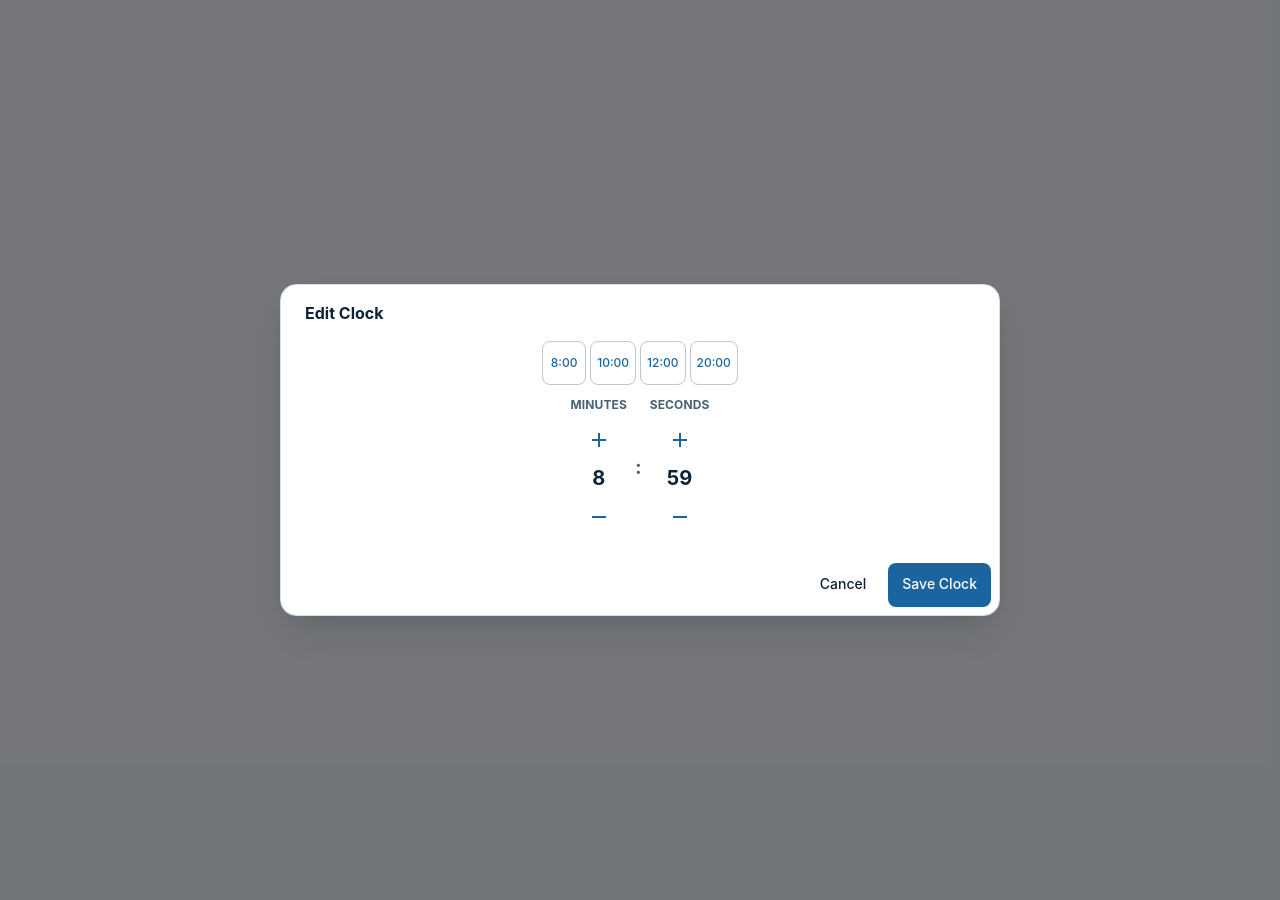
Scenario: EditClockDialog › allows manual adjustment of seconds with wrapping
The width and height of the screenshot is (1280, 900).
Click the button named "Increase seconds".
click(680, 440)  # box top-left (658, 418), bottom-right (702, 462)
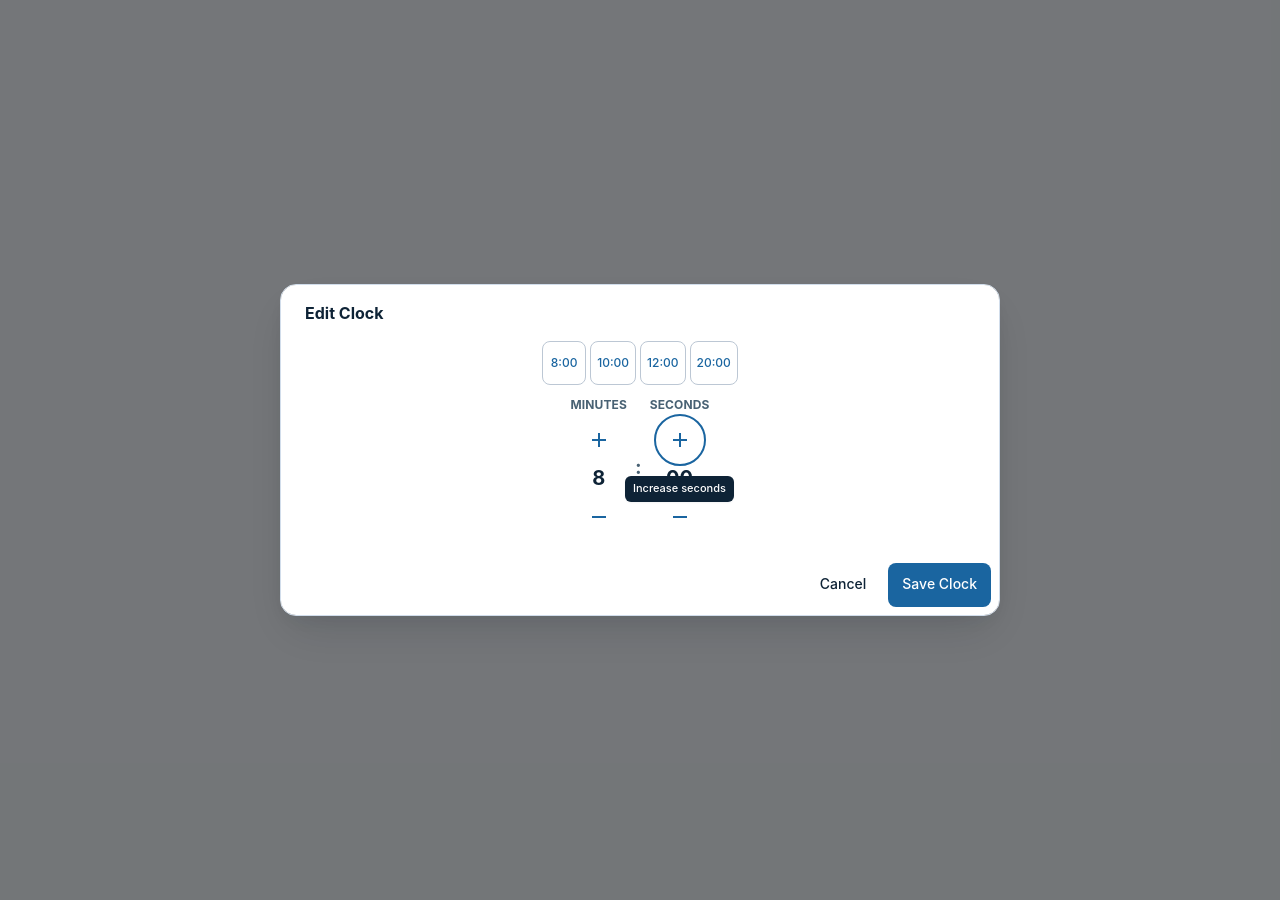
Now the heading "00" is shown, box top-left (666, 466), bottom-right (693, 491)
Click the button named "Decrease seconds".
click(680, 517)  # box top-left (658, 495), bottom-right (702, 539)
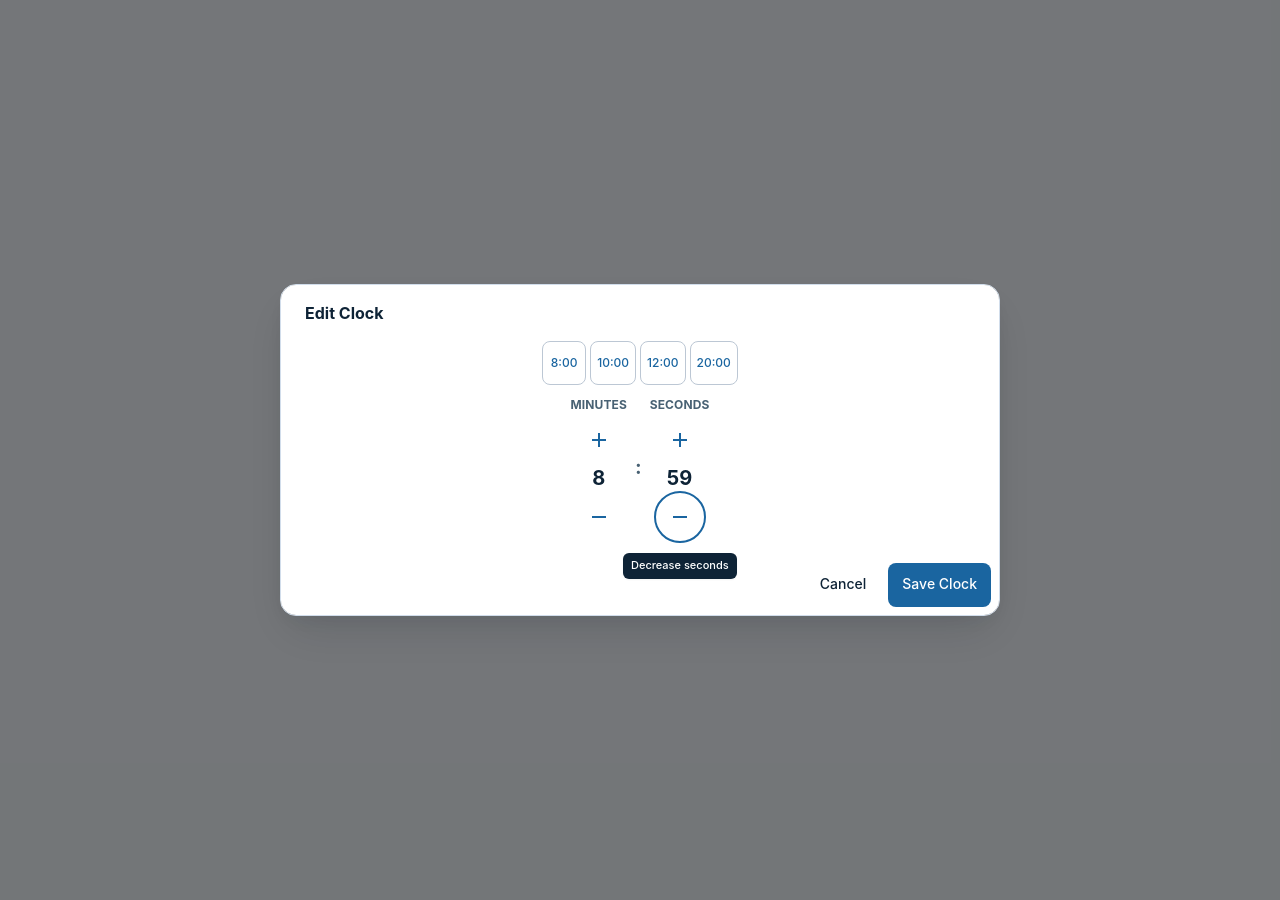
Now the heading "59" is shown, box top-left (666, 466), bottom-right (693, 491)
